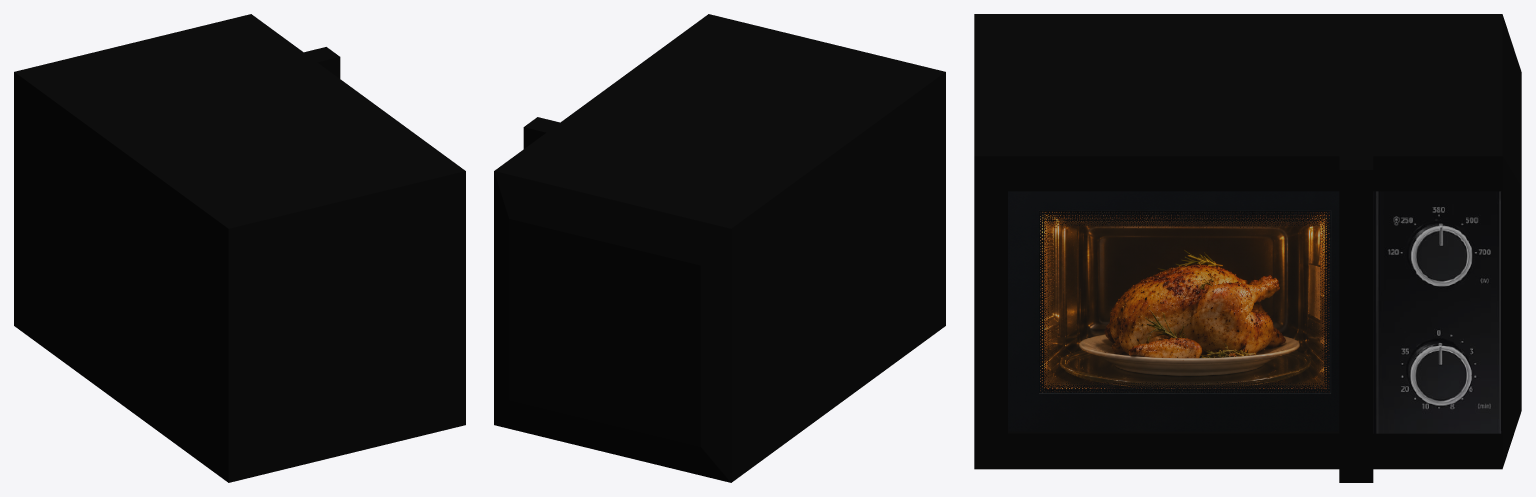
Rendered from microwave.fbx.
3 renders of one model, left to right at view 1: azimuth 30°, elevation 25°; view 2: azimuth 150°, elevation 25°; view 3: azimuth 270°, elevation 25°, orthographic. The views are drawn at different scales.
Visible parts, largest first — view 1: Cube; view 2: Cube; view 3: Cube.
Part boxes in pixels (x1,y1,x2,y2): Cube: [14, 14, 465, 482]; Cube: [494, 14, 945, 482]; Cube: [974, 14, 1521, 482].
Bounding box in the file's own units: 27.73 × 25.9 × 41.08.
Materials: 3 (2 with a texture image).
